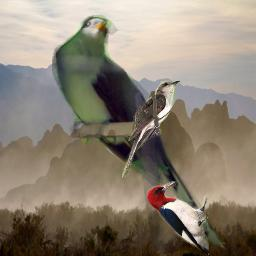Cuckoo: (52, 15, 234, 251), (122, 80, 180, 178)
Woodpecker: (146, 181, 209, 255)
